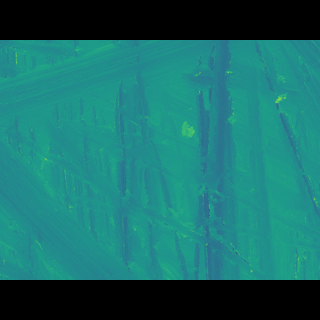Loch: (5, 72, 315, 245)
